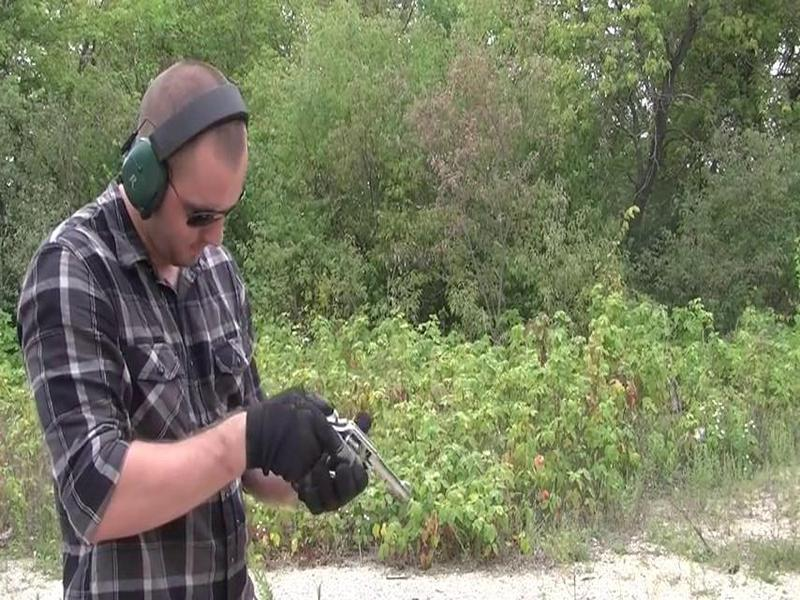Revolver: (288, 402, 441, 530)
